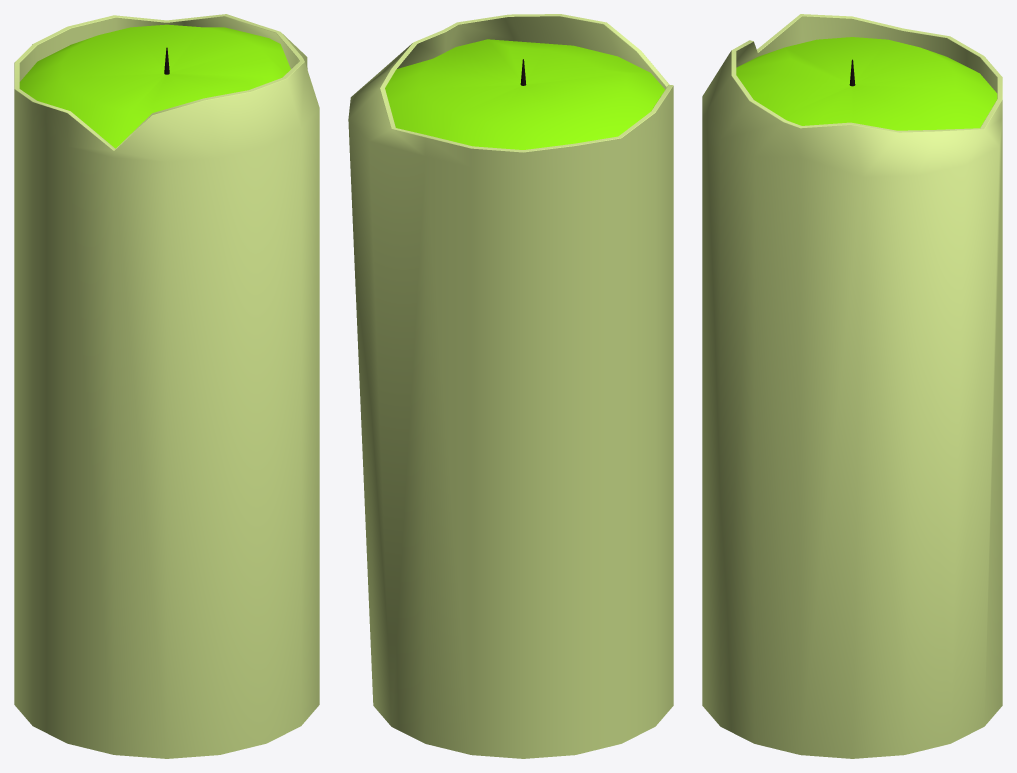
The model's file is swieczka03.FBX.
3 renders of one model, left to right at view 1: azimuth 30°, elevation 25°; view 2: azimuth 150°, elevation 25°; view 3: azimuth 270°, elevation 25°, orthographic.
Visible parts, largest first — view 1: Cylinder001; view 2: Cylinder001; view 3: Cylinder001.
Boxes of the visible parts, bbox=[...] form: Cylinder001: bbox=[14, 14, 319, 758]; Cylinder001: bbox=[348, 14, 673, 758]; Cylinder001: bbox=[702, 14, 1002, 758].
Size of the model in its own units: 10.42 by 22.98 by 9.85.
